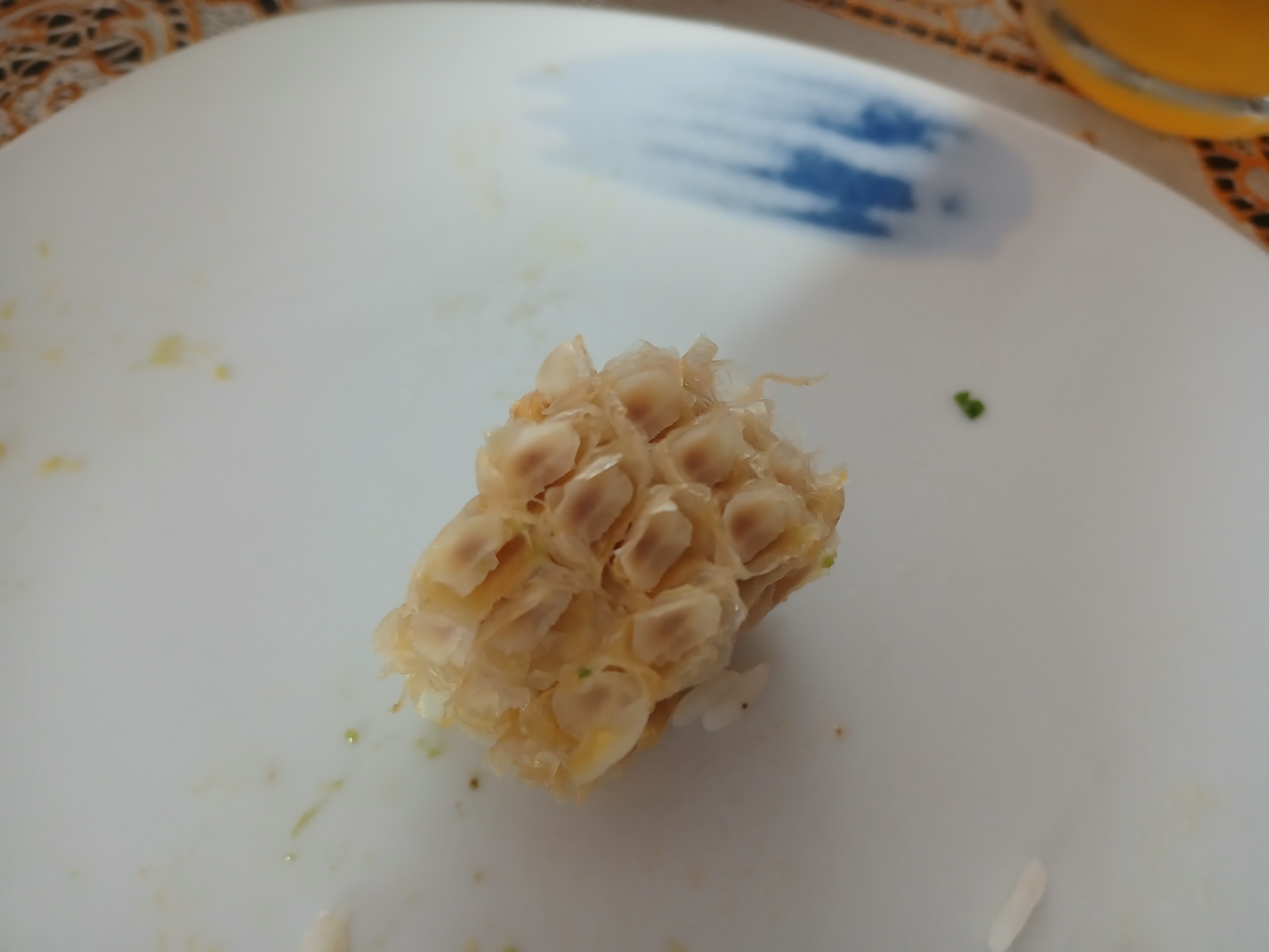Organico: (377, 339, 850, 803)
